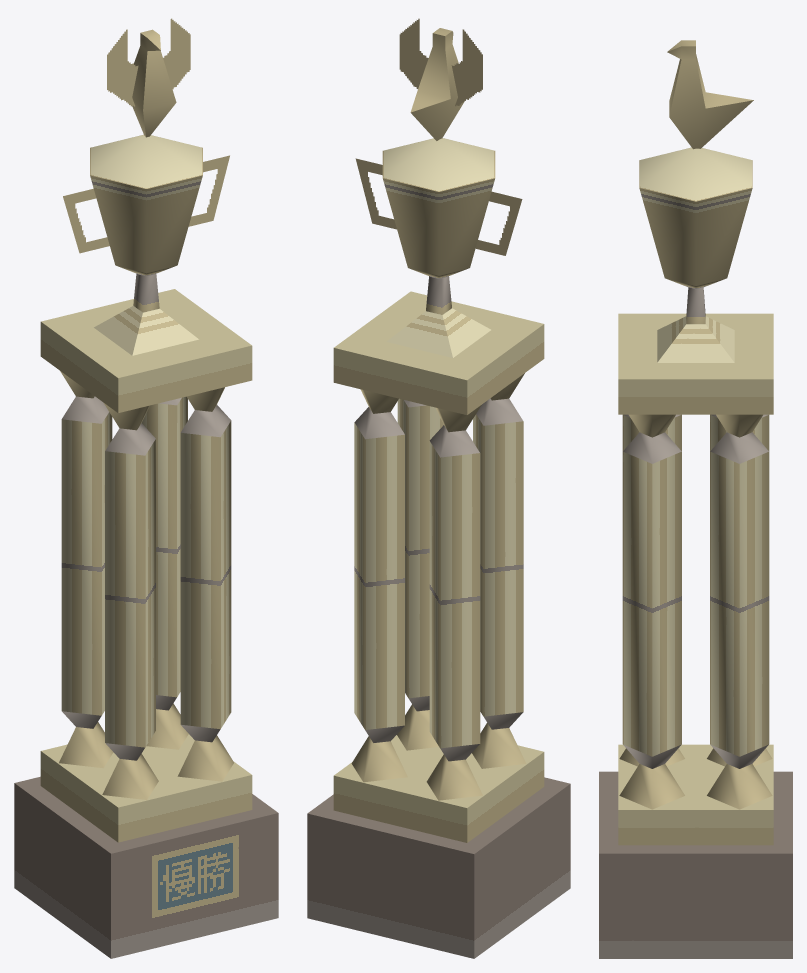
Rendered from 0153_Trophy.glb.
3 renders of one model, left to right at view 1: azimuth 30°, elevation 25°; view 2: azimuth 150°, elevation 25°; view 3: azimuth 270°, elevation 25°, orthographic.
Visible parts, largest first — view 1: part_0; view 2: part_0; view 3: part_0.
Part boxes in pixels (x1,y1,x2,y2): part_0: [14, 18, 278, 958]; part_0: [307, 18, 570, 958]; part_0: [599, 40, 792, 958].
Size of the model in its own units: 0.15 by 0.7538 by 0.15.
Materials: 1 (1 with a texture image).
